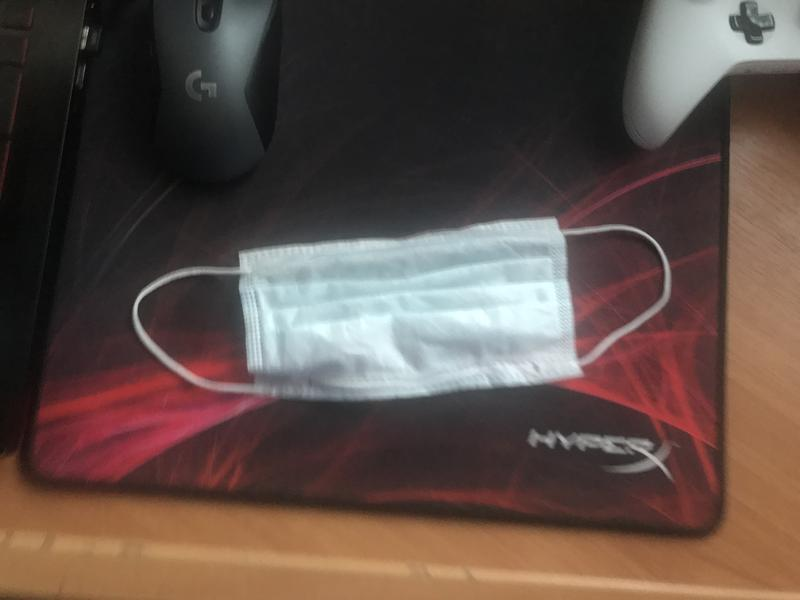medical_mask: (135, 221, 670, 397)
